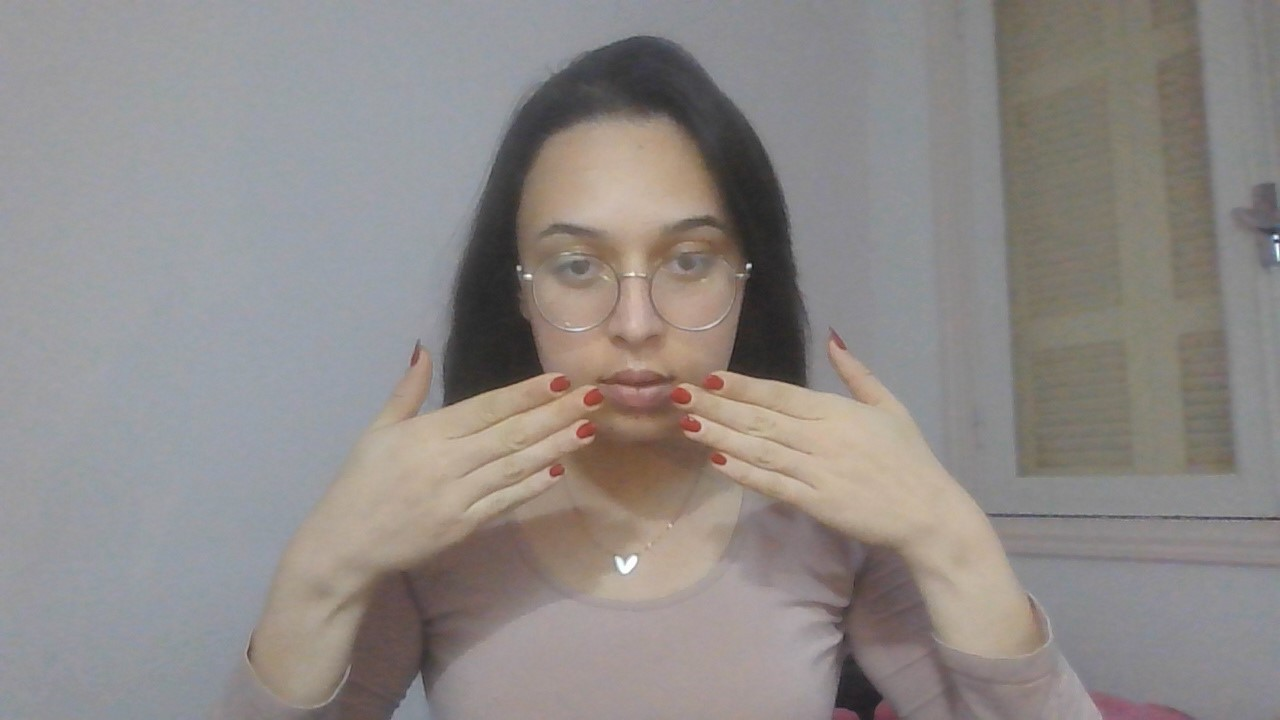thanks: (311, 318, 976, 576)
